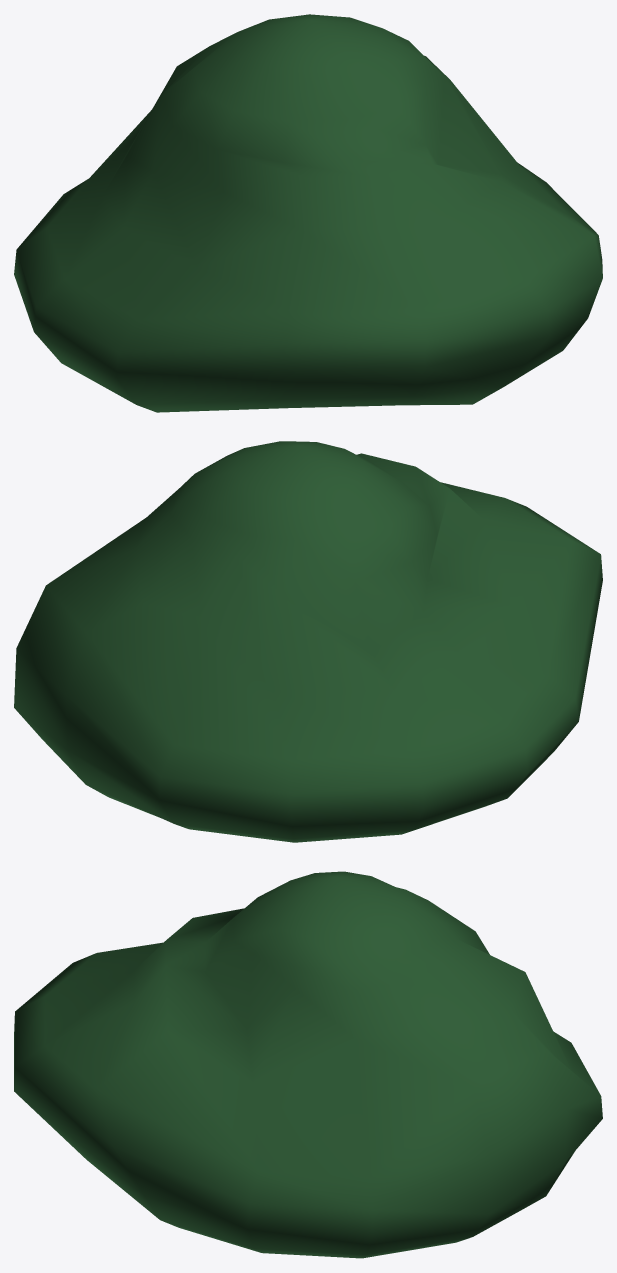
Rendered from SMALLBUSH.fbx.
3 renders of one model, top to bottom at view 1: azimuth 30°, elevation 25°; view 2: azimuth 150°, elevation 25°; view 3: azimuth 270°, elevation 25°, orthographic. The views are drawn at different scales.
Parts seen in each view (by area): view 1: small bush; view 2: small bush; view 3: small bush.
Boxes of the visible parts, x1,y1,x2,y2 form: small bush: (14, 14, 602, 412); small bush: (14, 441, 602, 842); small bush: (14, 871, 602, 1258).
Size of the model in its own units: 491 by 294 by 531.
